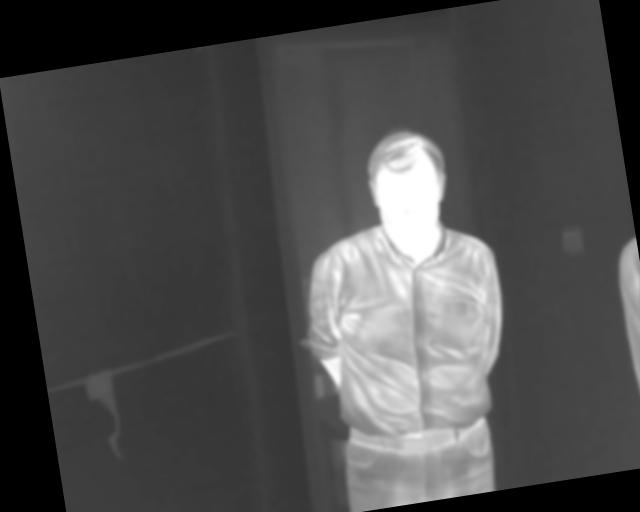face: (359, 122, 457, 255)
